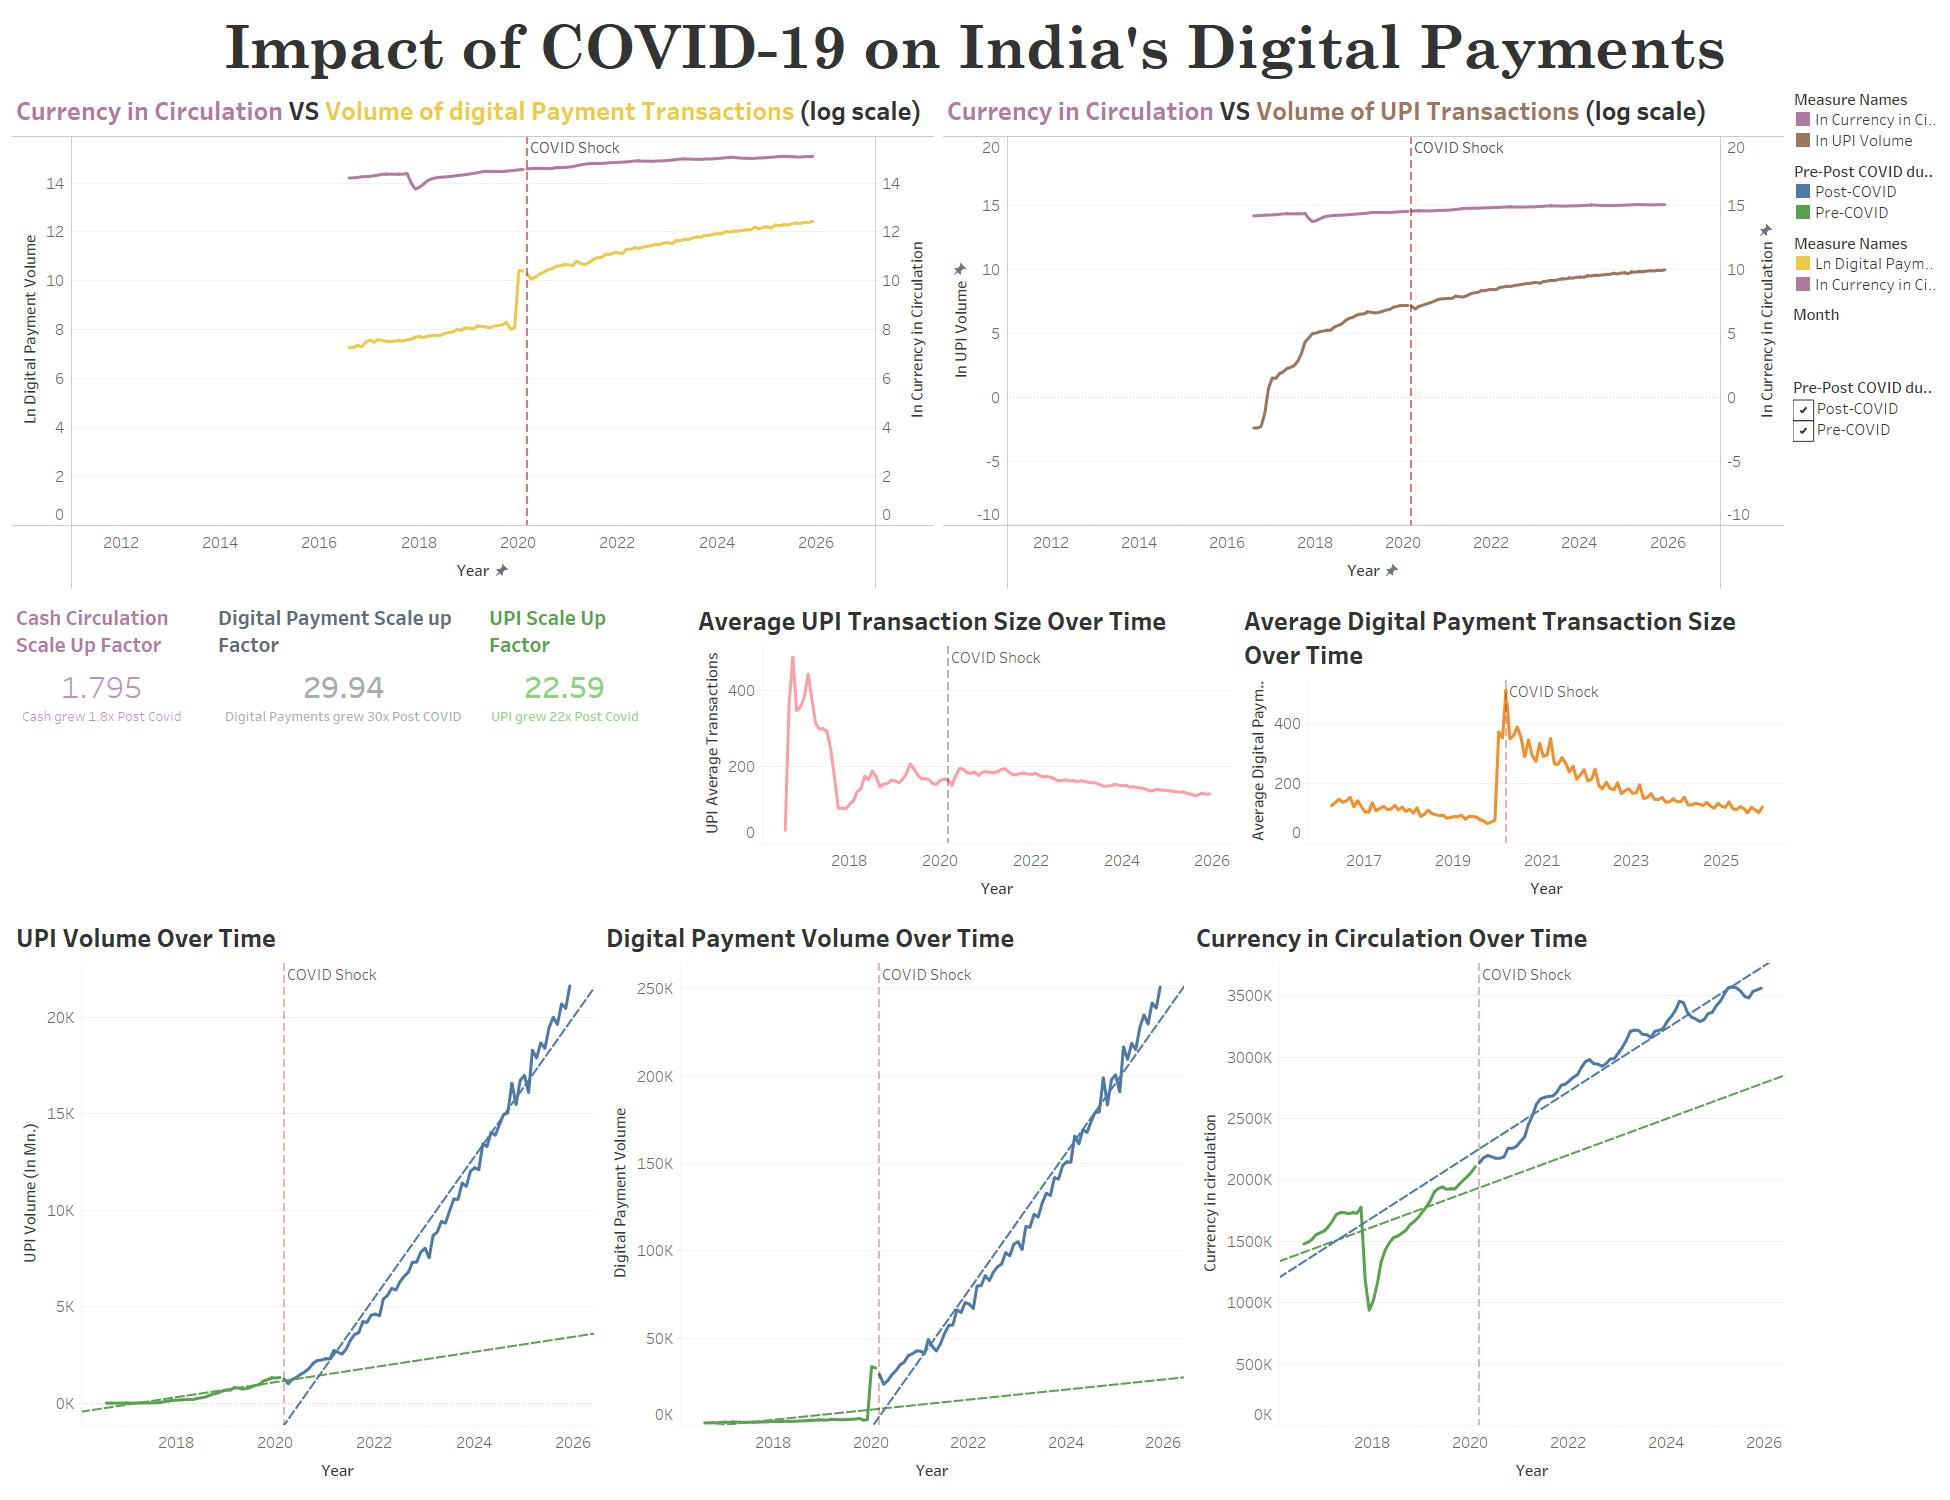

The page's visual inventory and layout, read from the dashboard file:
{"tool":"tableau","page":{"name":"Dashboard 1","canvas":[1950,1500],"ordinal":0},"visuals":[{"type":"title","box":[8,8,1934,75]},{"type":"worksheet","title":"dig_comparison","mark":"Automatic","rows":["ln_digital_payment_volume","ln Currency in Circulation"],"cols":["Month"],"box":[8,83,931.1,510.2]},{"type":"worksheet","title":"Comparison","mark":"Automatic","rows":["ln UPI Volume","ln Currency in Circulation"],"cols":["Month"],"box":[939.1,83,849.9,510.2]},{"type":"legend","title":"Comparison","param":"[federated.1tfek6i1l1iglj1gdjf4s12n74he].[:Measure Names]","box":[1789,83,153,72]},{"type":"legend","title":"UPI_volume","param":"[federated.1tfek6i1l1iglj1gdjf4s12n74he].[none:Calculation_1327717516412022784:n","box":[1789,155,153,72]},{"type":"legend","title":"dig_comparison","param":"[federated.1tfek6i1l1iglj1gdjf4s12n74he].[:Measure Names]","box":[1789,227,153,72]},{"type":"filter","title":"Sheet 14","param":"[federated.1tfek6i1l1iglj1gdjf4s12n74he].[none:Month:qk]","box":[1789,299,153,73]},{"type":"filter","title":"Sheet 14","param":"[federated.1tfek6i1l1iglj1gdjf4s12n74he].[none:Calculation_1327717516412022784:n","box":[1789,372,153,105]},{"type":"worksheet","title":"KPI_card1","mark":"Text","box":[8,593.2,201.6,316.8]},{"type":"worksheet","title":"KPI_card2","mark":"Text","box":[209.6,593.2,271.1,316.8]},{"type":"worksheet","title":"KPI_card3","mark":"Text","box":[480.8,593.2,209.6,316.8]},{"type":"worksheet","title":"Avg UPI transactions","mark":"Automatic","rows":["UPI Average Transactions"],"cols":["Month"],"box":[690.4,593.2,545.6,316.8]},{"type":"worksheet","title":"Sheet 14","mark":"Automatic","rows":["Digital_avg_transaction_size"],"cols":["Month (Sheet2)"],"box":[1236,593.2,553,316.8]},{"type":"worksheet","title":"UPI_volume","mark":"Automatic","rows":["UPI Volume (In Mn.)"],"cols":["Month"],"box":[8,910,589.8,582]},{"type":"worksheet","title":"digiyal_payment_vol","mark":"Automatic","rows":["digital payment volume"],"cols":["Month"],"box":[597.8,910,589.8,582]},{"type":"worksheet","title":"Currency Trend","mark":"Automatic","rows":["Currency in circulation"],"cols":["Month"],"box":[1187.6,910,601.4,582]}]}

Visuals, with their boxes in screenshot pixels (x1, y1, x2, y2), scaled from the page's 1950x1500 canvas onto the 1950x1500 screenshot:
title: pyautogui.locateOnScreen(8, 8, 1942, 83)
"dig_comparison" worksheet: pyautogui.locateOnScreen(8, 83, 939, 593)
"Comparison" worksheet: pyautogui.locateOnScreen(939, 83, 1789, 593)
"Comparison" legend: pyautogui.locateOnScreen(1789, 83, 1942, 155)
"UPI_volume" legend: pyautogui.locateOnScreen(1789, 155, 1942, 227)
"dig_comparison" legend: pyautogui.locateOnScreen(1789, 227, 1942, 299)
"Sheet 14" filter: pyautogui.locateOnScreen(1789, 299, 1942, 372)
"Sheet 14" filter: pyautogui.locateOnScreen(1789, 372, 1942, 477)
"KPI_card1" worksheet (Text marks): pyautogui.locateOnScreen(8, 593, 210, 910)
"KPI_card2" worksheet (Text marks): pyautogui.locateOnScreen(210, 593, 481, 910)
"KPI_card3" worksheet (Text marks): pyautogui.locateOnScreen(481, 593, 690, 910)
"Avg UPI transactions" worksheet: pyautogui.locateOnScreen(690, 593, 1236, 910)
"Sheet 14" worksheet: pyautogui.locateOnScreen(1236, 593, 1789, 910)
"UPI_volume" worksheet: pyautogui.locateOnScreen(8, 910, 598, 1492)
"digiyal_payment_vol" worksheet: pyautogui.locateOnScreen(598, 910, 1188, 1492)
"Currency Trend" worksheet: pyautogui.locateOnScreen(1188, 910, 1789, 1492)
